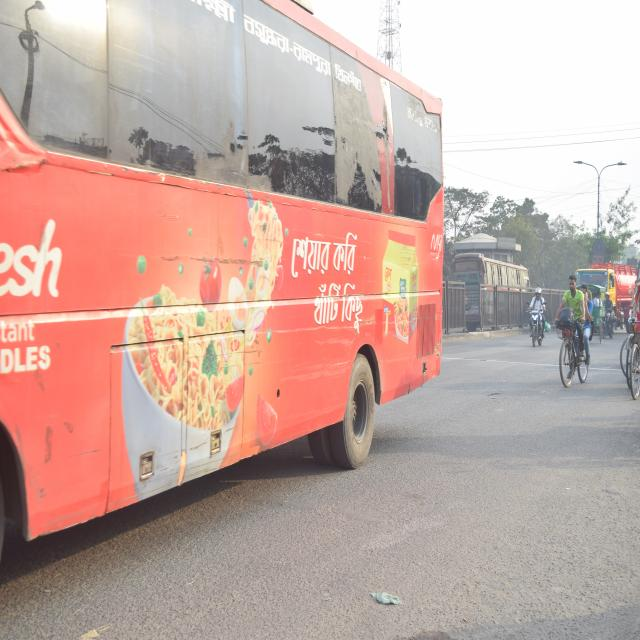bus: (0, 0, 452, 569), (449, 245, 529, 327)
motorbike: (526, 290, 547, 354), (600, 298, 618, 344)
truck: (574, 252, 640, 310)
